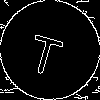T: (25, 25, 67, 78)
